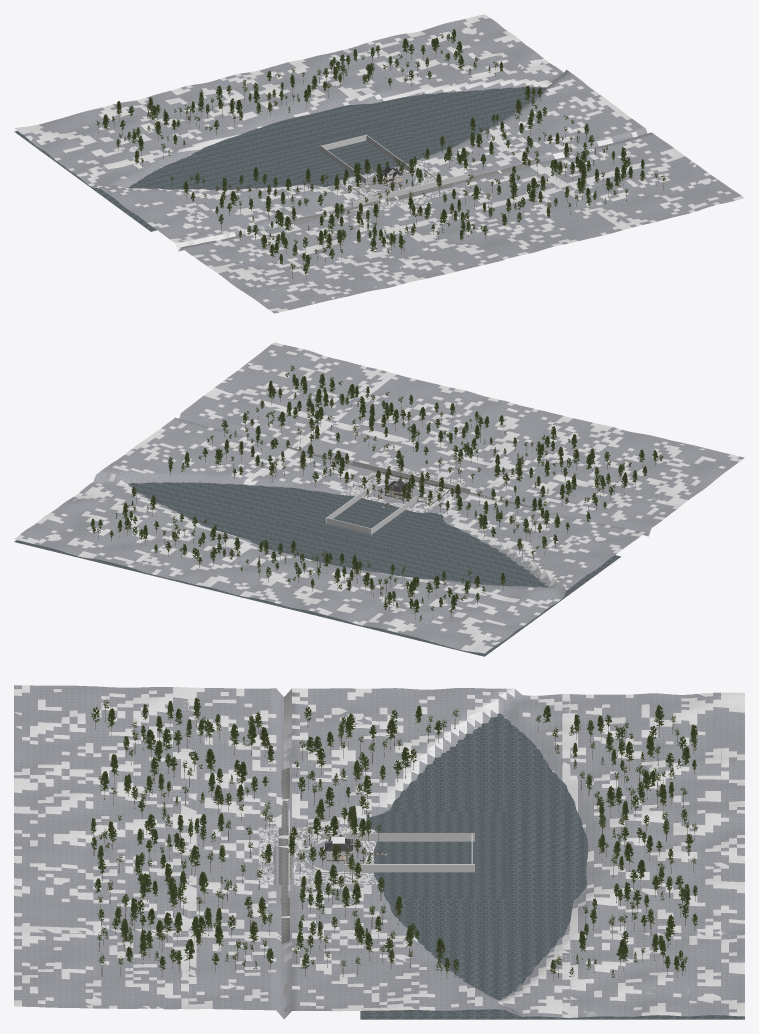
File: exterior.glb
3 renders of one model, top to bottom at view 1: azimuth 30°, elevation 25°; view 2: azimuth 150°, elevation 25°; view 3: azimuth 270°, elevation 25°, orthographic. The views are drawn at different scales.
Parts seen in each view (by area): view 1: exterior_static, COL_static, forest; view 2: exterior_static, COL_static, forest; view 3: exterior_static, COL_static, forest.
Boxes of the visible parts, <box> form: exterior_static: <box>14,17,741,313</box>; COL_static: <box>14,14,744,312</box>; forest: <box>96,29,666,278</box>; exterior_static: <box>14,344,744,656</box>; COL_static: <box>14,342,741,653</box>; forest: <box>90,365,663,621</box>; exterior_static: <box>14,685,744,1019</box>; COL_static: <box>14,685,744,1017</box>; forest: <box>90,697,697,980</box>.
Size of the model in its own units: 480 by 31.52 by 460.
Materials: 33 (20 with a texture image).
